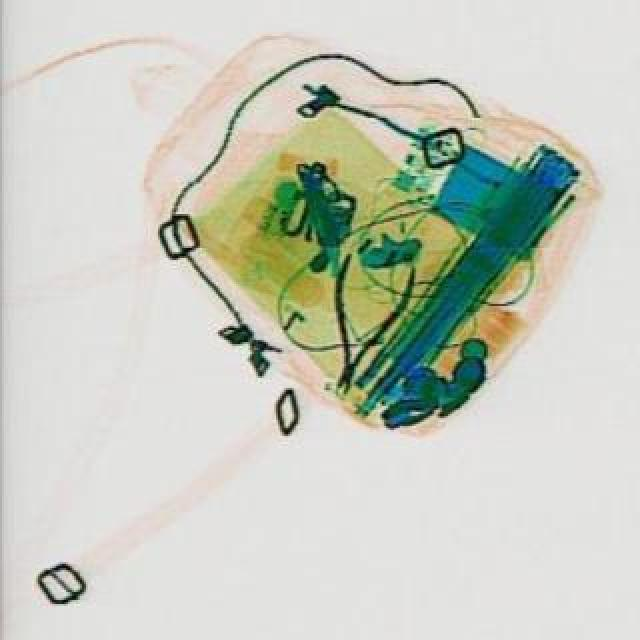wrench: (300, 246, 416, 400)
